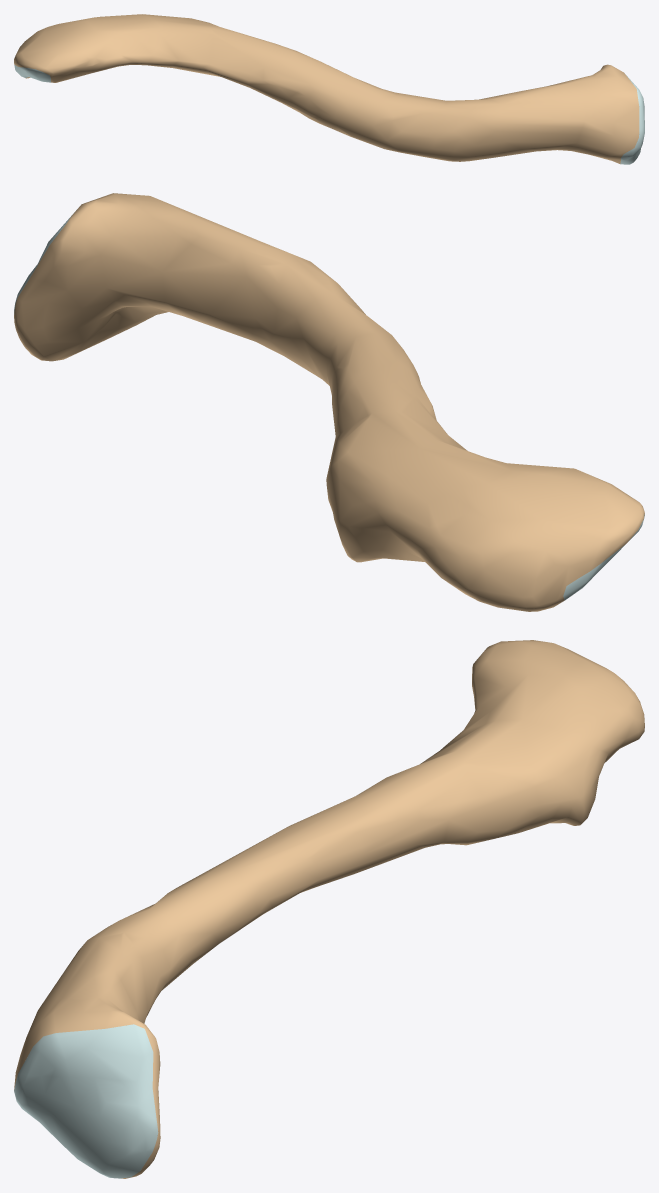
Rendered from Clavicle.r_Cone.010.glb.
The picture shows the model from 3 angles, top to bottom: view 1: azimuth 30°, elevation 25°; view 2: azimuth 150°, elevation 25°; view 3: azimuth 270°, elevation 25°; orthographic projection. The views are drawn at different scales.
Parts seen in each view (by area): view 1: Clavicle.r_Cone.010; view 2: Clavicle.r_Cone.010; view 3: Clavicle.r_Cone.010.
Part boxes in pixels (left/top/right/bottom): Clavicle.r_Cone.010: left=14, top=14, right=644, bottom=164; Clavicle.r_Cone.010: left=14, top=193, right=644, bottom=611; Clavicle.r_Cone.010: left=14, top=640, right=644, bottom=1178.
Bounding box in the file's own units: 0.1431 × 0.0361 × 0.1028.
